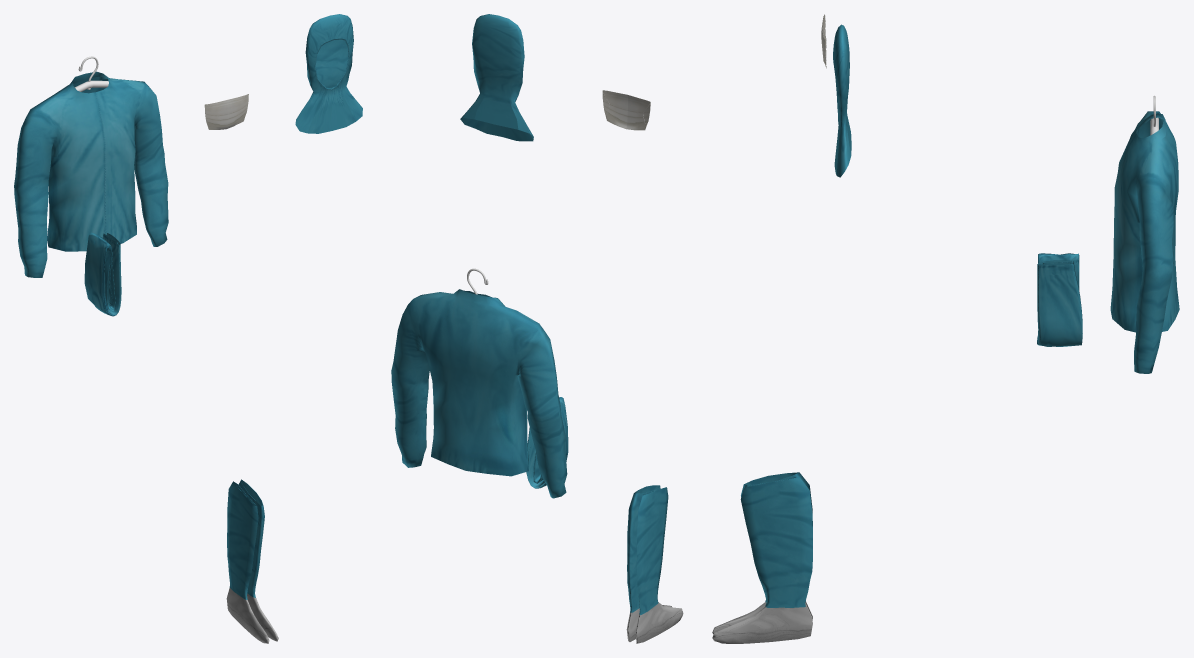
Rendered from HouFu_YiFu.fbx.
3 views of the same model, side by side, from view 1: azimuth 30°, elevation 25°; view 2: azimuth 150°, elevation 25°; view 3: azimuth 270°, elevation 25° (orthographic). The views are drawn at different scales.
Visible parts, largest first — view 1: shangyi14, toutao4, wazi_r, kuzi13, wazi_l, kouzhao5; view 2: shangyi14, toutao4, wazi_r, wazi_l, kouzhao5, kuzi13; view 3: shangyi14, wazi_l, kuzi13, toutao4, wazi_r.
Part boxes in pixels (<box>): shangyi14: <box>14,71,168,277</box>; toutao4: <box>295,14,362,133</box>; wazi_r: <box>226,481,269,643</box>; kuzi13: <box>84,232,121,316</box>; wazi_l: <box>238,479,278,641</box>; kouzhao5: <box>204,94,248,129</box>; shangyi14: <box>391,289,567,498</box>; toutao4: <box>460,14,533,141</box>; wazi_r: <box>635,487,683,643</box>; wazi_l: <box>626,485,671,641</box>; kouzhao5: <box>602,90,650,130</box>; kuzi13: <box>526,397,568,488</box>; shangyi14: <box>1110,111,1179,373</box>; wazi_l: <box>712,477,812,643</box>; kuzi13: <box>1037,253,1082,346</box>; toutao4: <box>833,24,851,177</box>; wazi_r: <box>712,472,812,634</box>.
Bounding box in the file's own units: 81.39 × 199 × 125.
